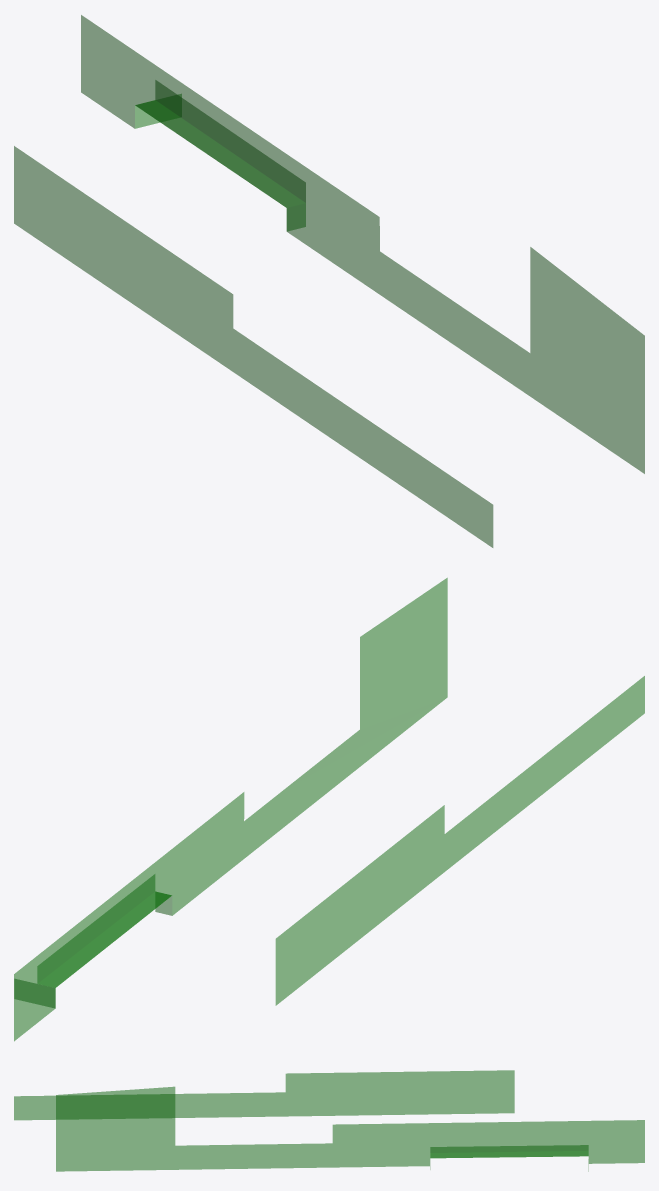
Rendered from polymsh_extracted.obj.
The picture shows the model from 3 angles, top to bottom: view 1: azimuth 30°, elevation 25°; view 2: azimuth 150°, elevation 25°; view 3: azimuth 270°, elevation 25°; orthographic projection. The views are drawn at different scales.
Bounding box in the file's own units: 31.6 × 19.36 × 133.
